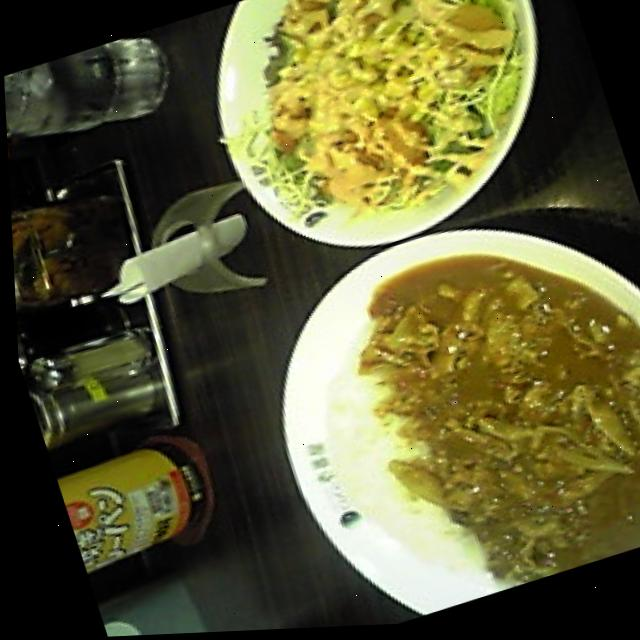牛肉菜式: (239, 179, 640, 632)
